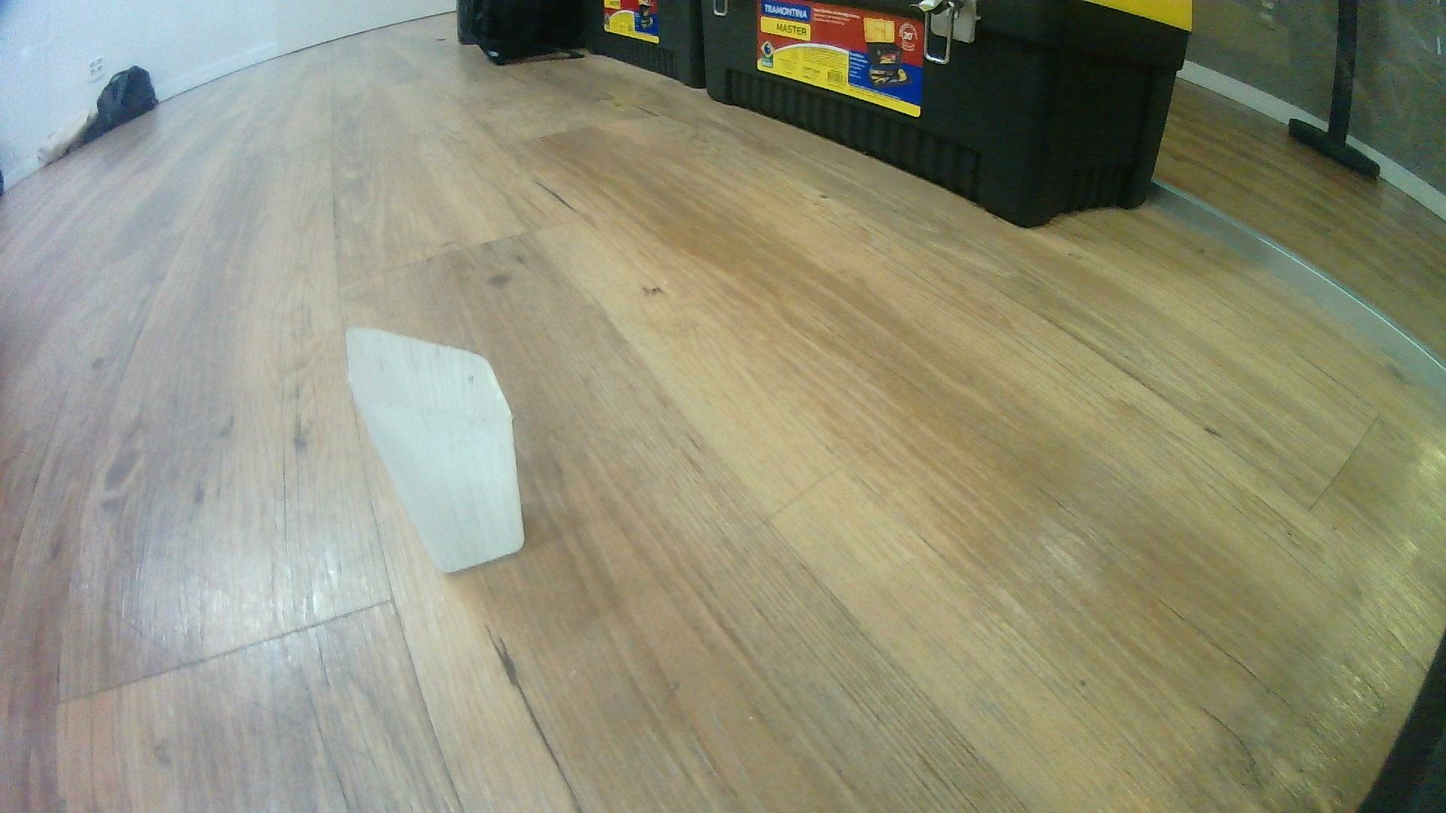erva_daninha: (342, 325, 528, 575)
